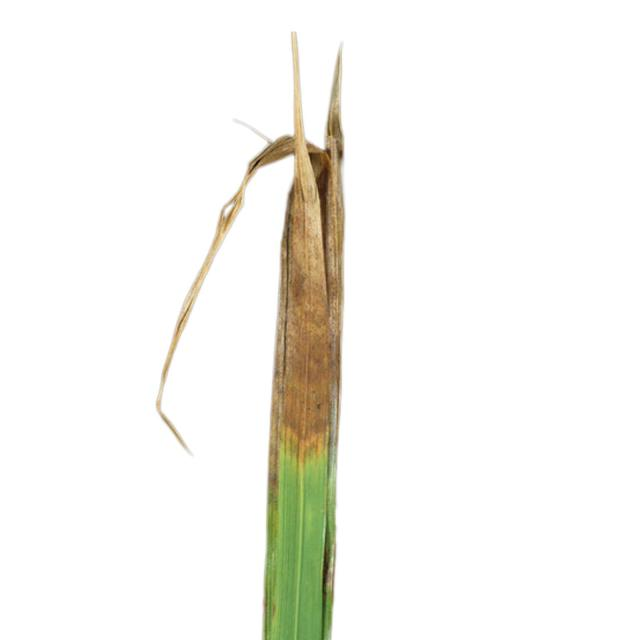Leaf scald: (94, 0, 424, 640)
